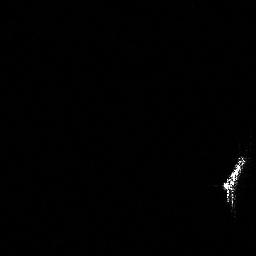ship: (223, 153, 248, 218)
